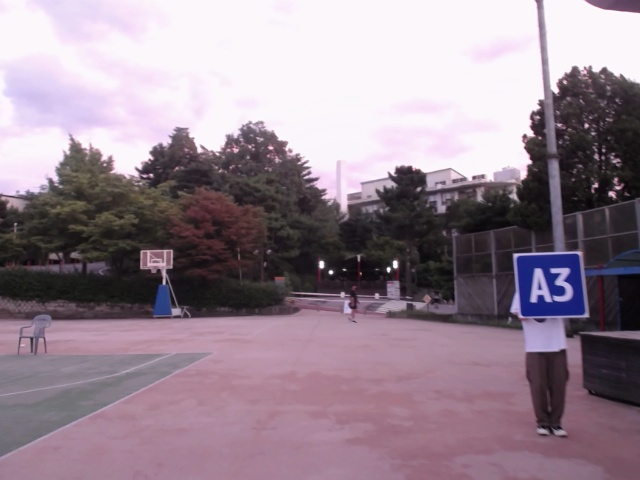delivery_a3: (515, 253, 588, 318)
